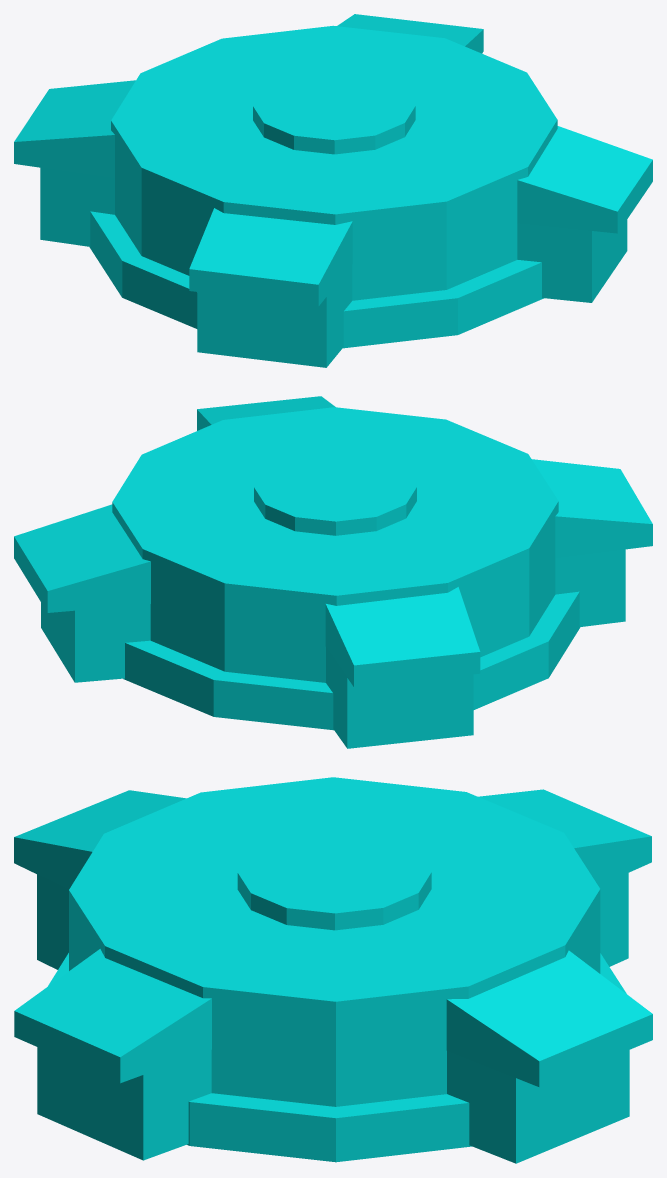
Rendered from SM_Prop_Hologram_Table_01_Collision.fbx.
The picture shows the model from 3 angles, top to bottom: view 1: azimuth 30°, elevation 25°; view 2: azimuth 150°, elevation 25°; view 3: azimuth 270°, elevation 25°; orthographic projection. The views are drawn at different scales.
Visible parts, largest first — view 1: SM_Prop_Hologram_Table_01_Collision; view 2: SM_Prop_Hologram_Table_01_Collision; view 3: SM_Prop_Hologram_Table_01_Collision.
Part boxes in pixels (x1,y1,x2,y2): SM_Prop_Hologram_Table_01_Collision: [14, 14, 652, 367]; SM_Prop_Hologram_Table_01_Collision: [14, 396, 652, 748]; SM_Prop_Hologram_Table_01_Collision: [14, 777, 652, 1163].
Bounding box in the file's own units: 418 × 119 × 415.
